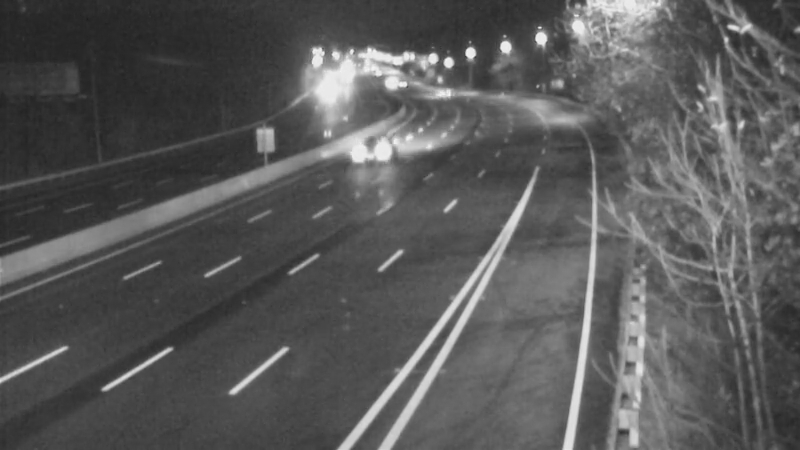vehicle: (361, 55, 411, 105), (380, 60, 430, 110), (417, 64, 467, 114), (348, 120, 398, 170)
